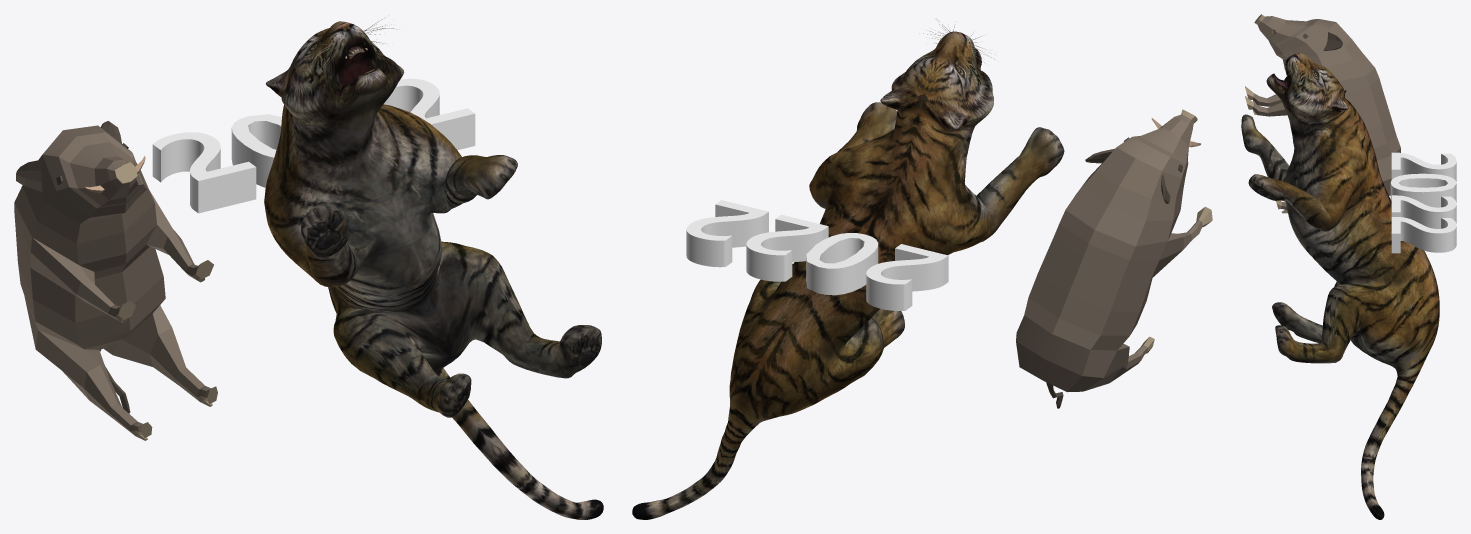
Rendered from asset6.glb.
3 views of the same model, side by side, from view 1: azimuth 30°, elevation 25°; view 2: azimuth 150°, elevation 25°; view 3: azimuth 270°, elevation 25° (orthographic). The views are drawn at different scales.
Parts seen in each view (by area): view 1: D1201A12, Geo_Boar, mesh_id38.001; view 2: D1201A12, Geo_Boar, mesh_id38.001; view 3: D1201A12, Geo_Boar, mesh_id38.001.
Boxes of the visible parts, x1,y1,x2,y2 form: D1201A12: (264,17,603,519); Geo_Boar: (14,121,217,440); mesh_id38.001: (152,78,475,213); D1201A12: (632,18,1064,519); Geo_Boar: (1016,109,1212,408); mesh_id38.001: (686,200,948,310); D1201A12: (1241,50,1439,519); Geo_Boar: (1245,14,1400,213); mesh_id38.001: (1390,152,1456,253).
Bounding box in the file's own units: 301 × 291 × 151.
Materials: 4 (2 with a texture image).
